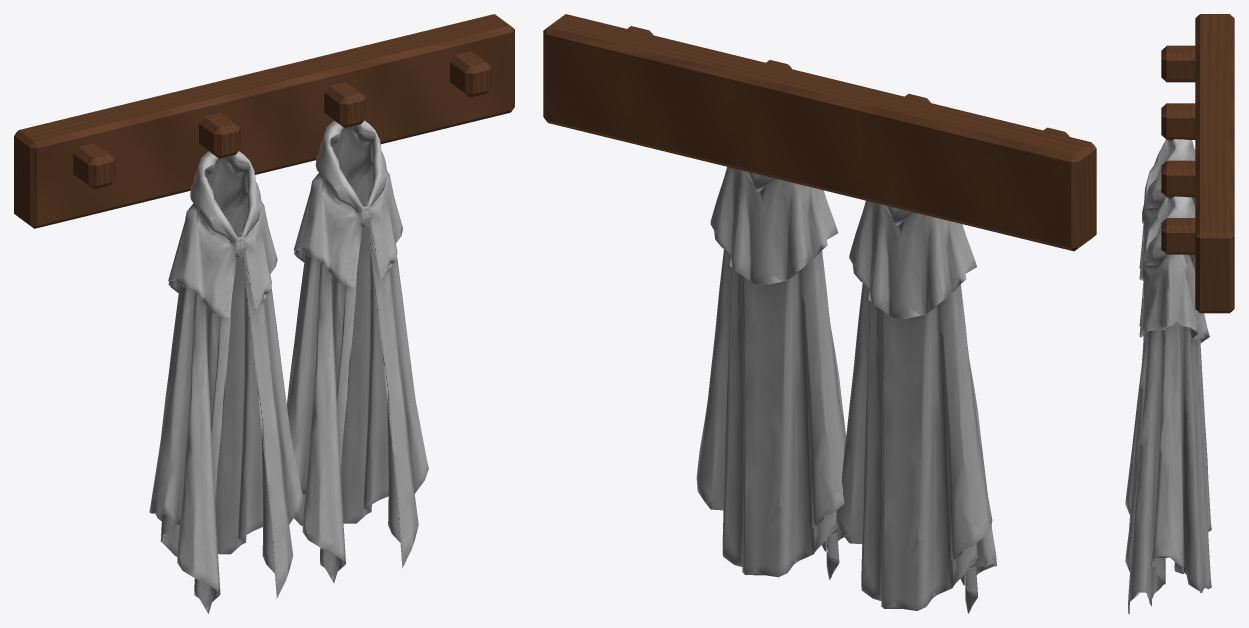
The model's file is vestibule-cloak-rail.glb.
The picture shows the model from 3 angles, left to right: view 1: azimuth 30°, elevation 25°; view 2: azimuth 150°, elevation 25°; view 3: azimuth 270°, elevation 25°; orthographic projection. The views are drawn at different scales.
Parts seen in each view (by area): view 1: Rail wood and pegs, Cloak A, Cloak B; view 2: Rail wood and pegs, Cloak A, Cloak B; view 3: Cloak B, Rail wood and pegs, Cloak A.
Boxes of the visible parts, x1,y1,x2,y2 form: Rail wood and pegs: [14, 14, 514, 228]; Cloak A: [149, 151, 303, 613]; Cloak B: [286, 120, 428, 582]; Rail wood and pegs: [543, 14, 1096, 251]; Cloak A: [836, 200, 996, 613]; Cloak B: [696, 167, 845, 579]; Cloak B: [1125, 196, 1211, 613]; Rail wood and pegs: [1161, 14, 1234, 313]; Cloak A: [1125, 139, 1211, 531].
Size of the model in its own units: 0.85 by 0.811 by 0.1771.
2 materials, 2 textured.
